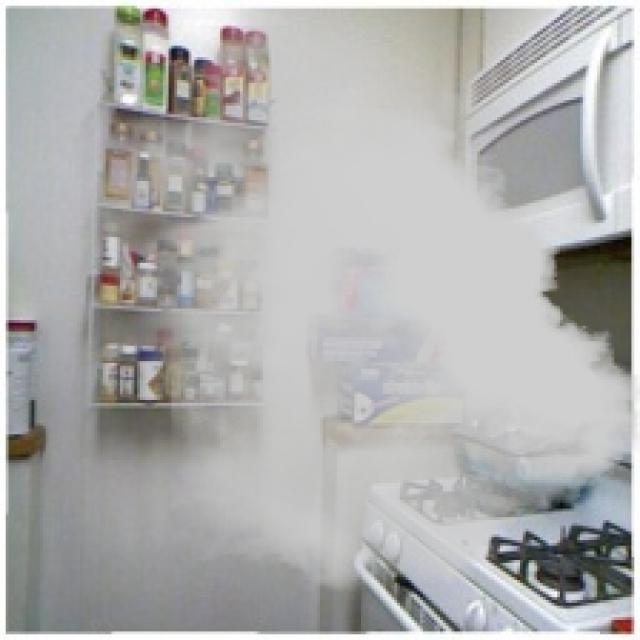Smoke: (72, 26, 638, 594)
